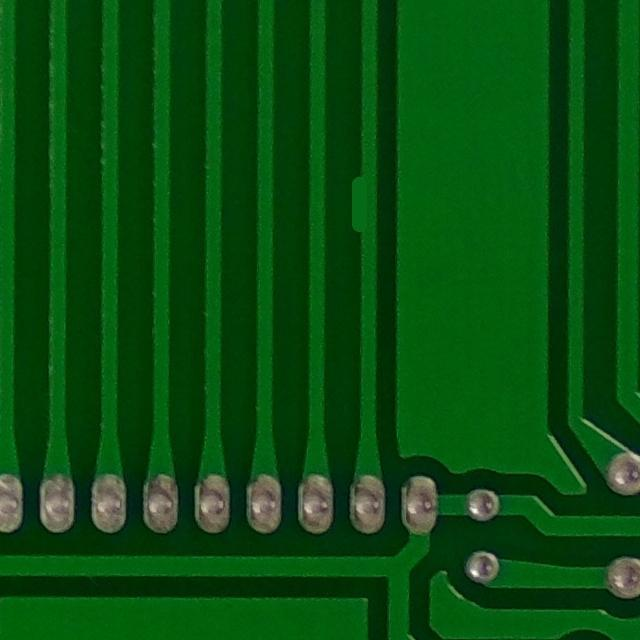spur: (340, 157, 387, 244)
